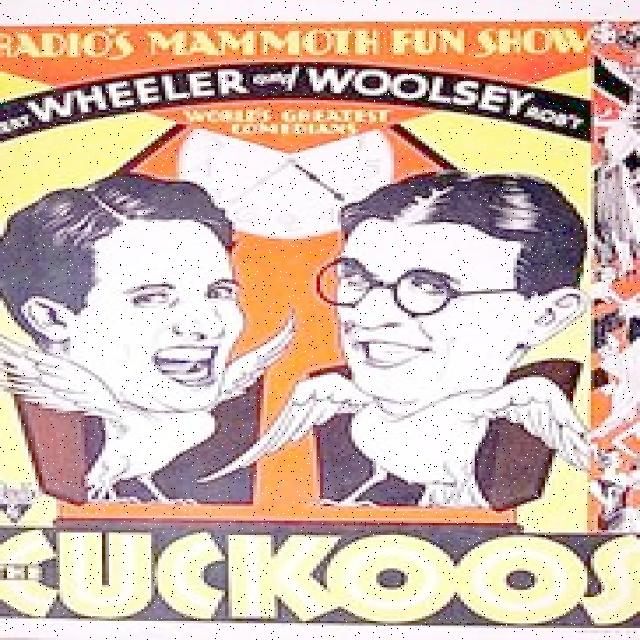movie-judul: (8, 528, 636, 629), (0, 28, 615, 131)
picture: (0, 137, 640, 520)
